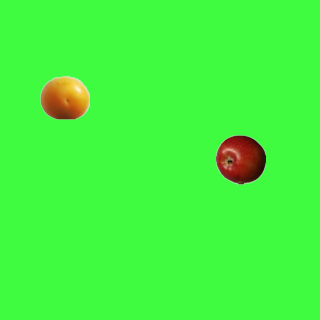Apple Braeburn: (215, 134, 265, 184)
Cherry Wax Yellow: (39, 72, 89, 122)
